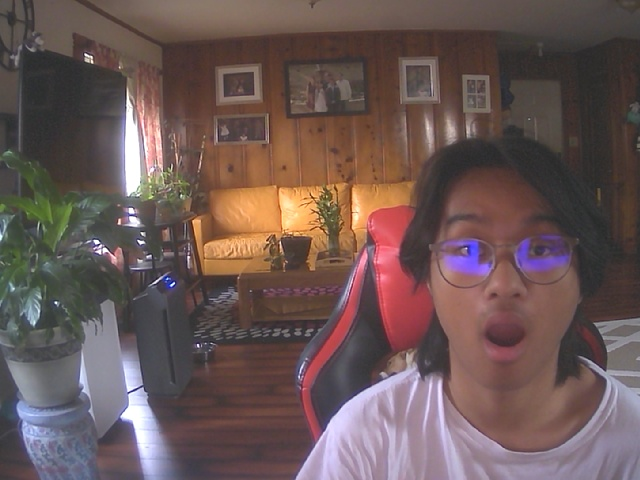fear: (424, 159, 583, 395)
